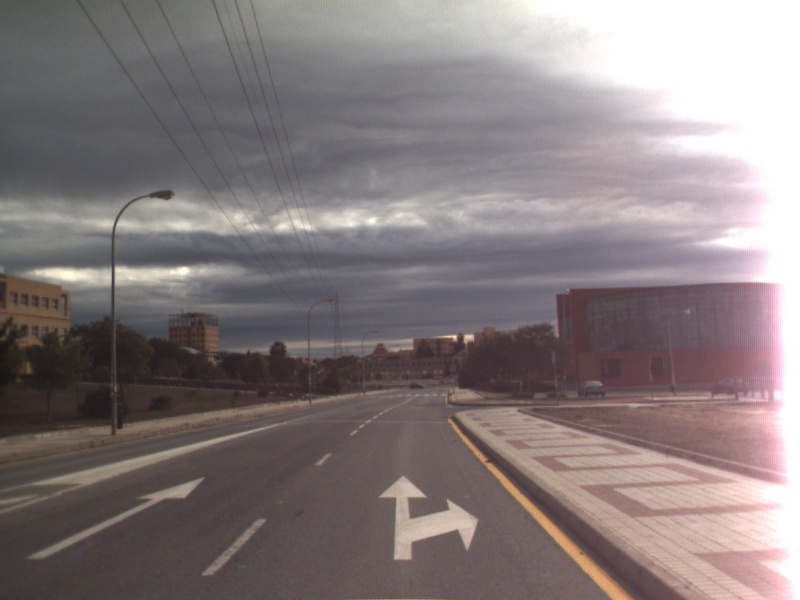STRAIGHT: (23, 475, 208, 561)
STRAIGHT_RIGHT: (376, 473, 481, 562)
